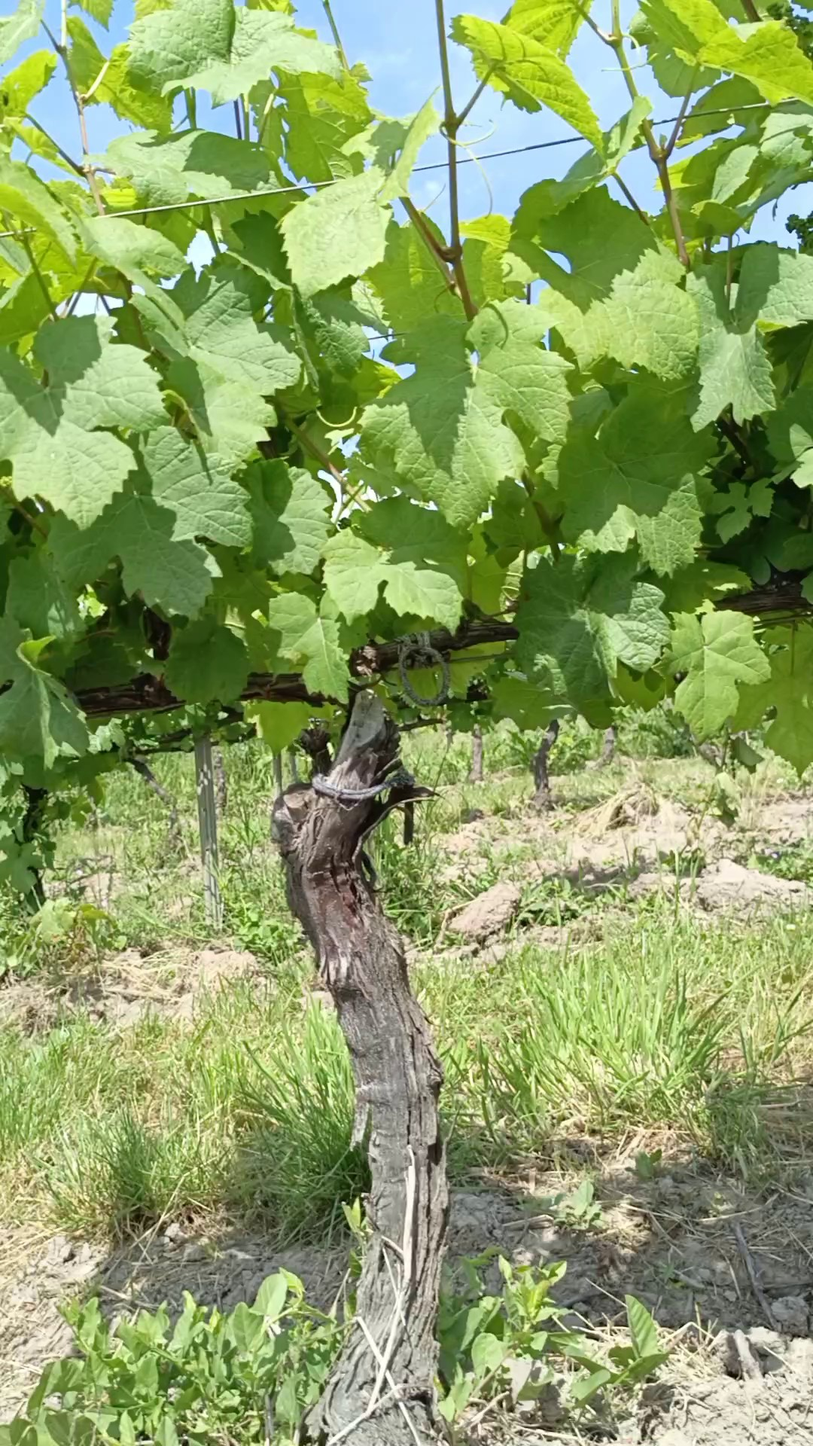vine_trunk: (273, 692, 448, 1445)
